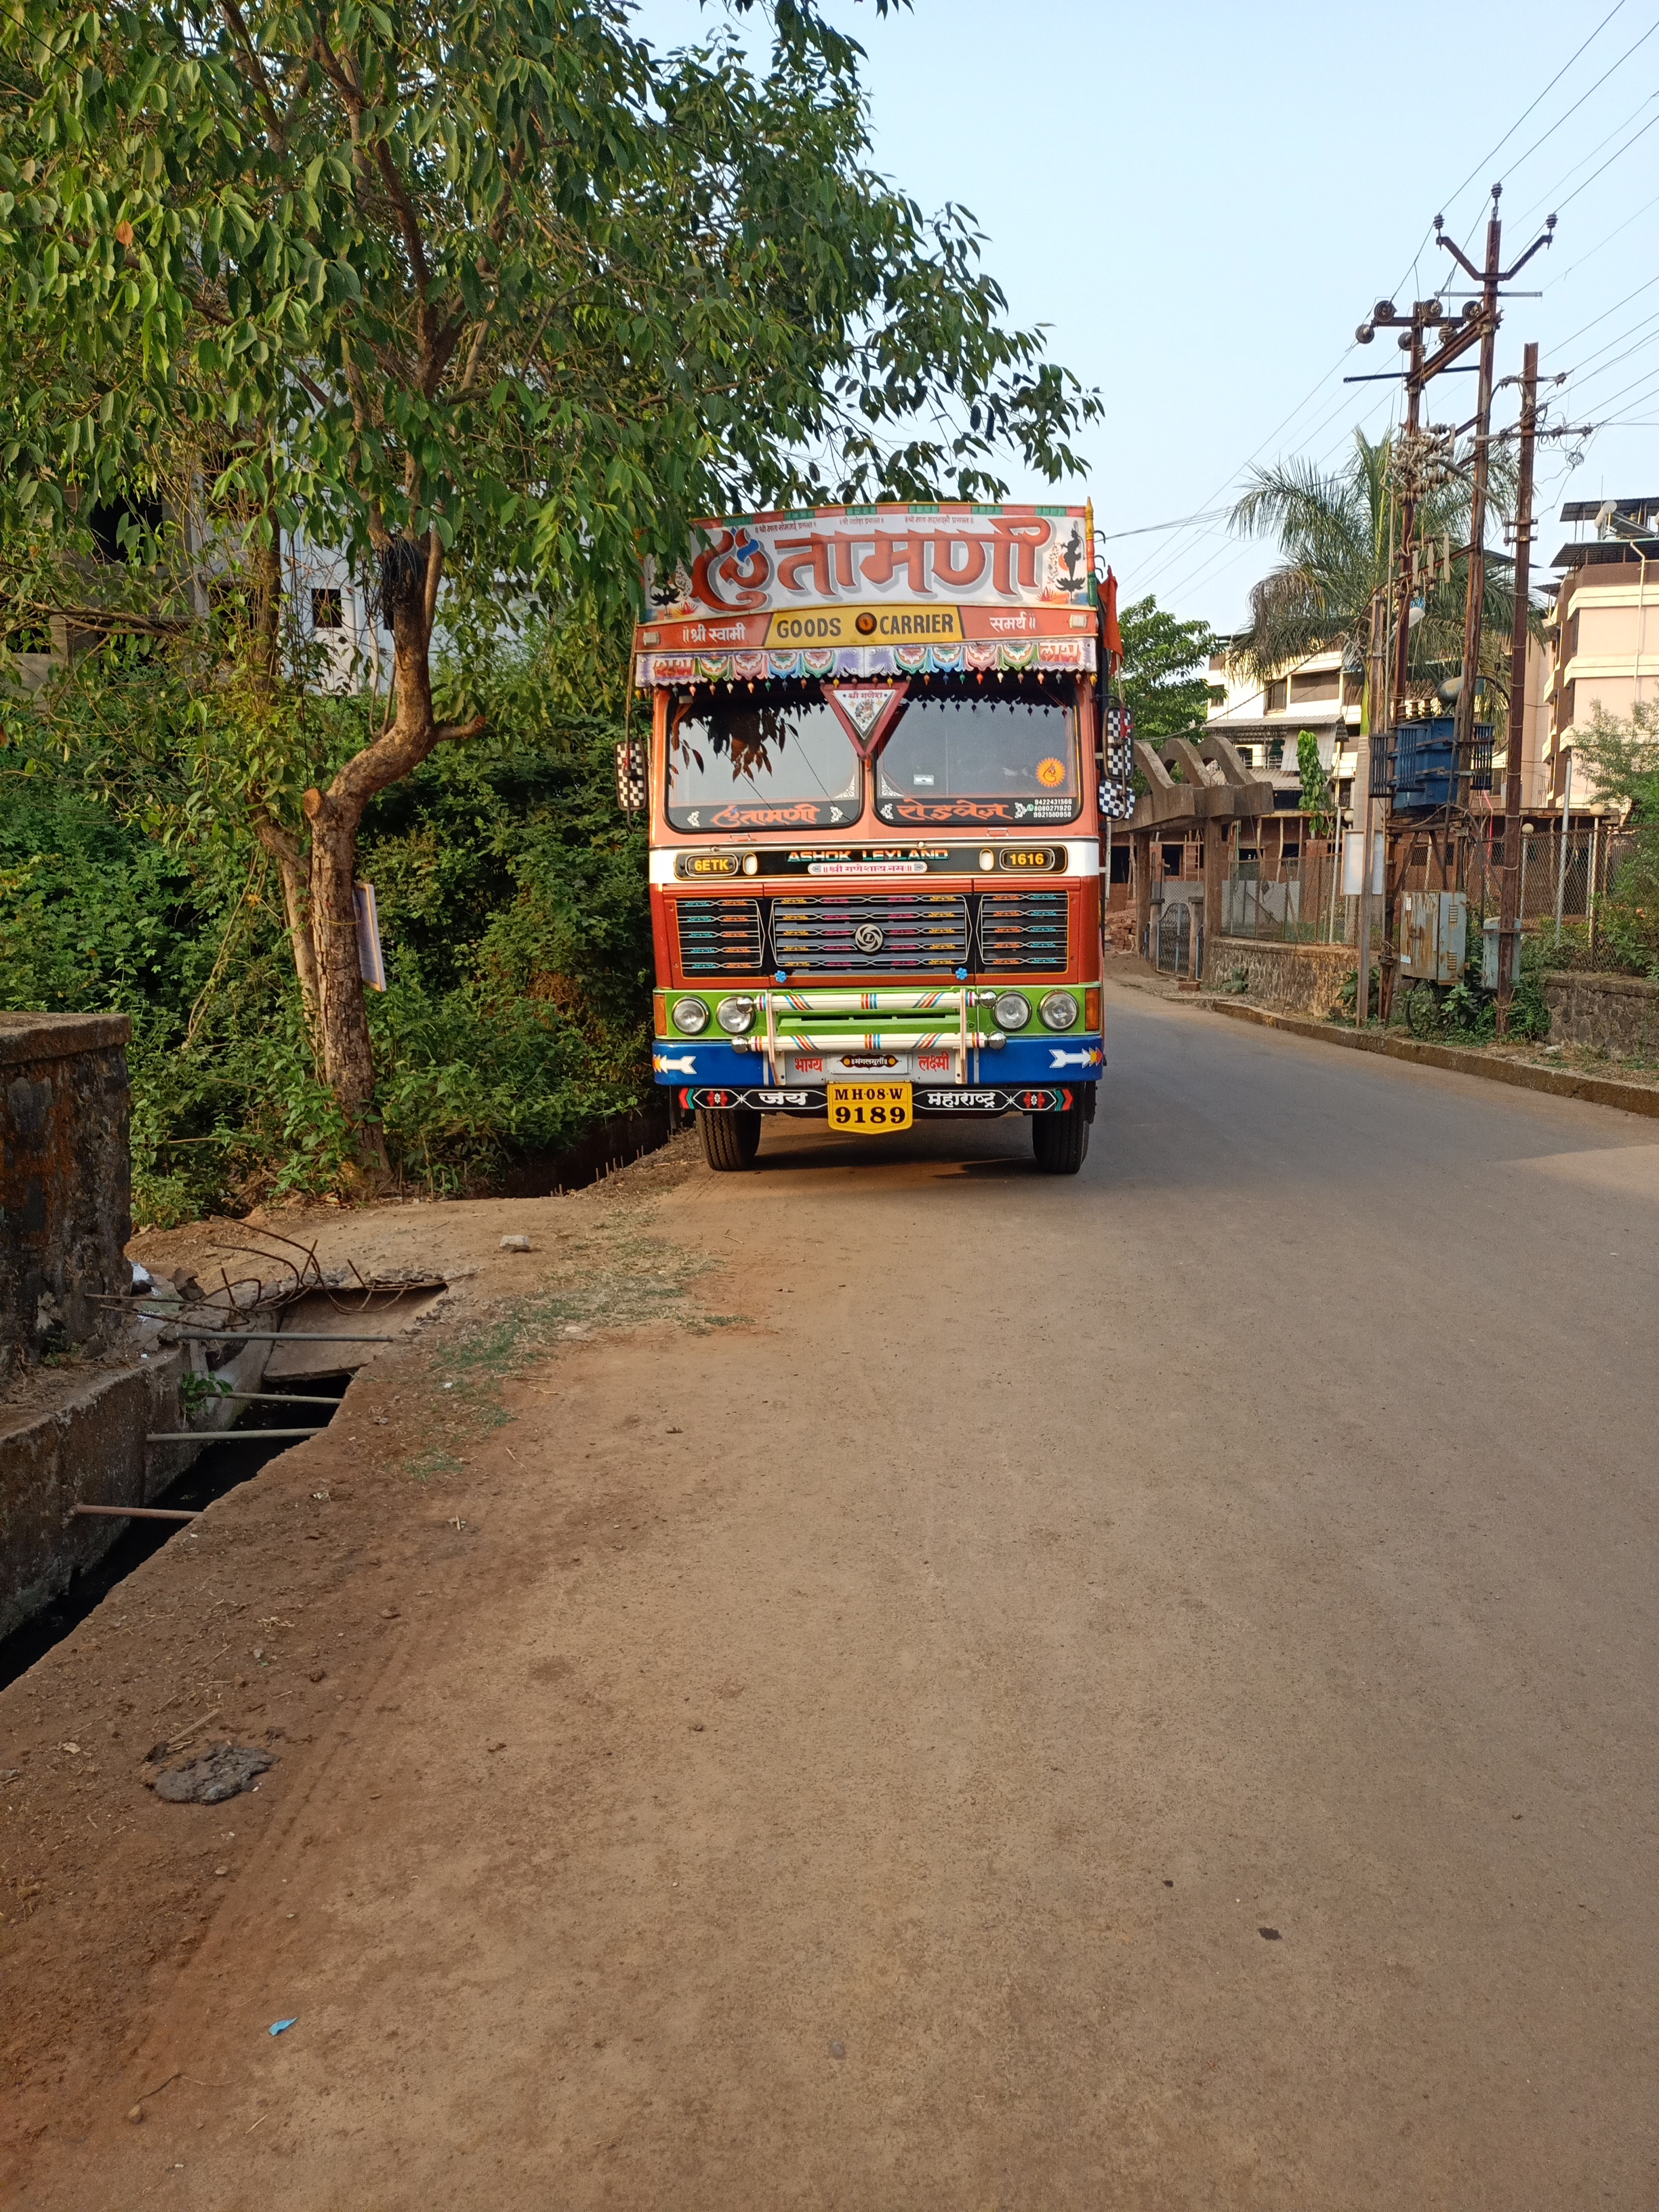truck: (610, 498, 1138, 1176)
